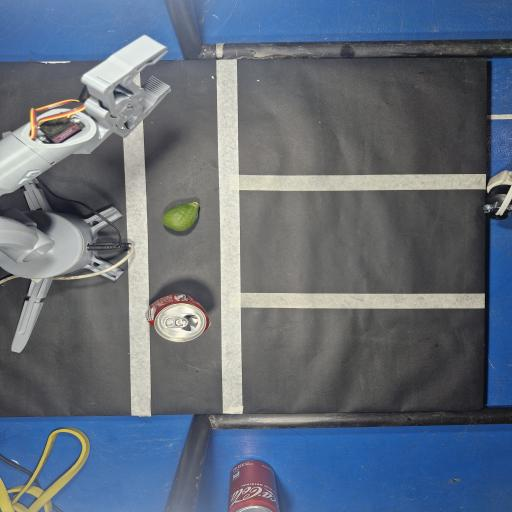higo: (162, 202, 199, 231)
lata_defectuoso: (146, 294, 209, 342)
